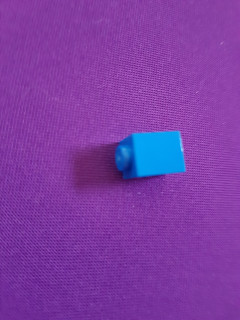1x1 blue: (113, 129, 190, 183)
